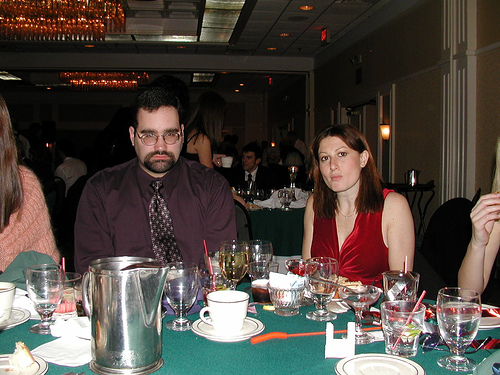without_mask: (132, 104, 186, 172), (315, 134, 371, 194), (240, 149, 260, 171)
